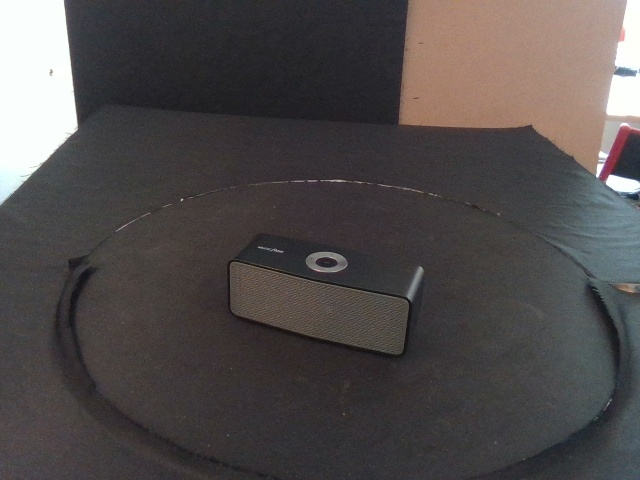speaker: (226, 232, 424, 356)
